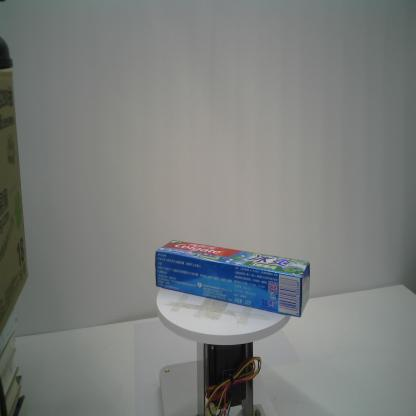Personal Hygiene: (156, 240, 310, 317)
